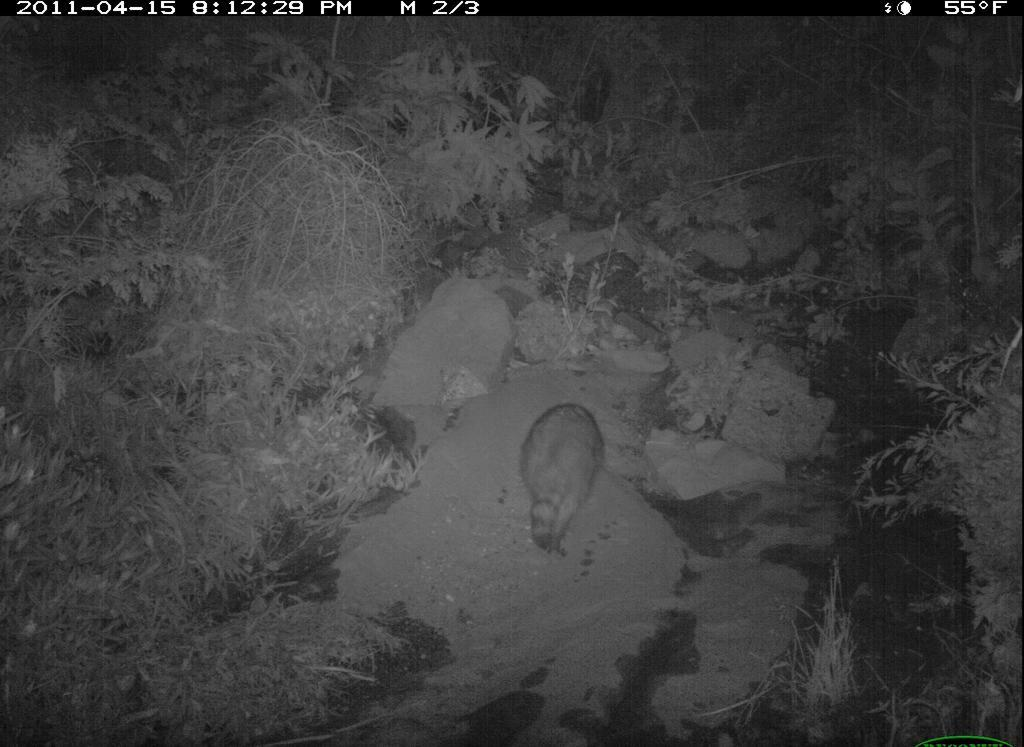raccoon: (513, 397, 616, 568)
